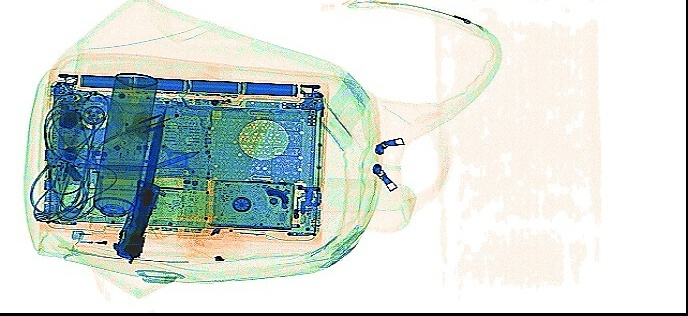knife: (120, 103, 168, 264), (110, 176, 162, 260)
lighter: (68, 224, 128, 249)
pressure: (90, 69, 159, 215)
